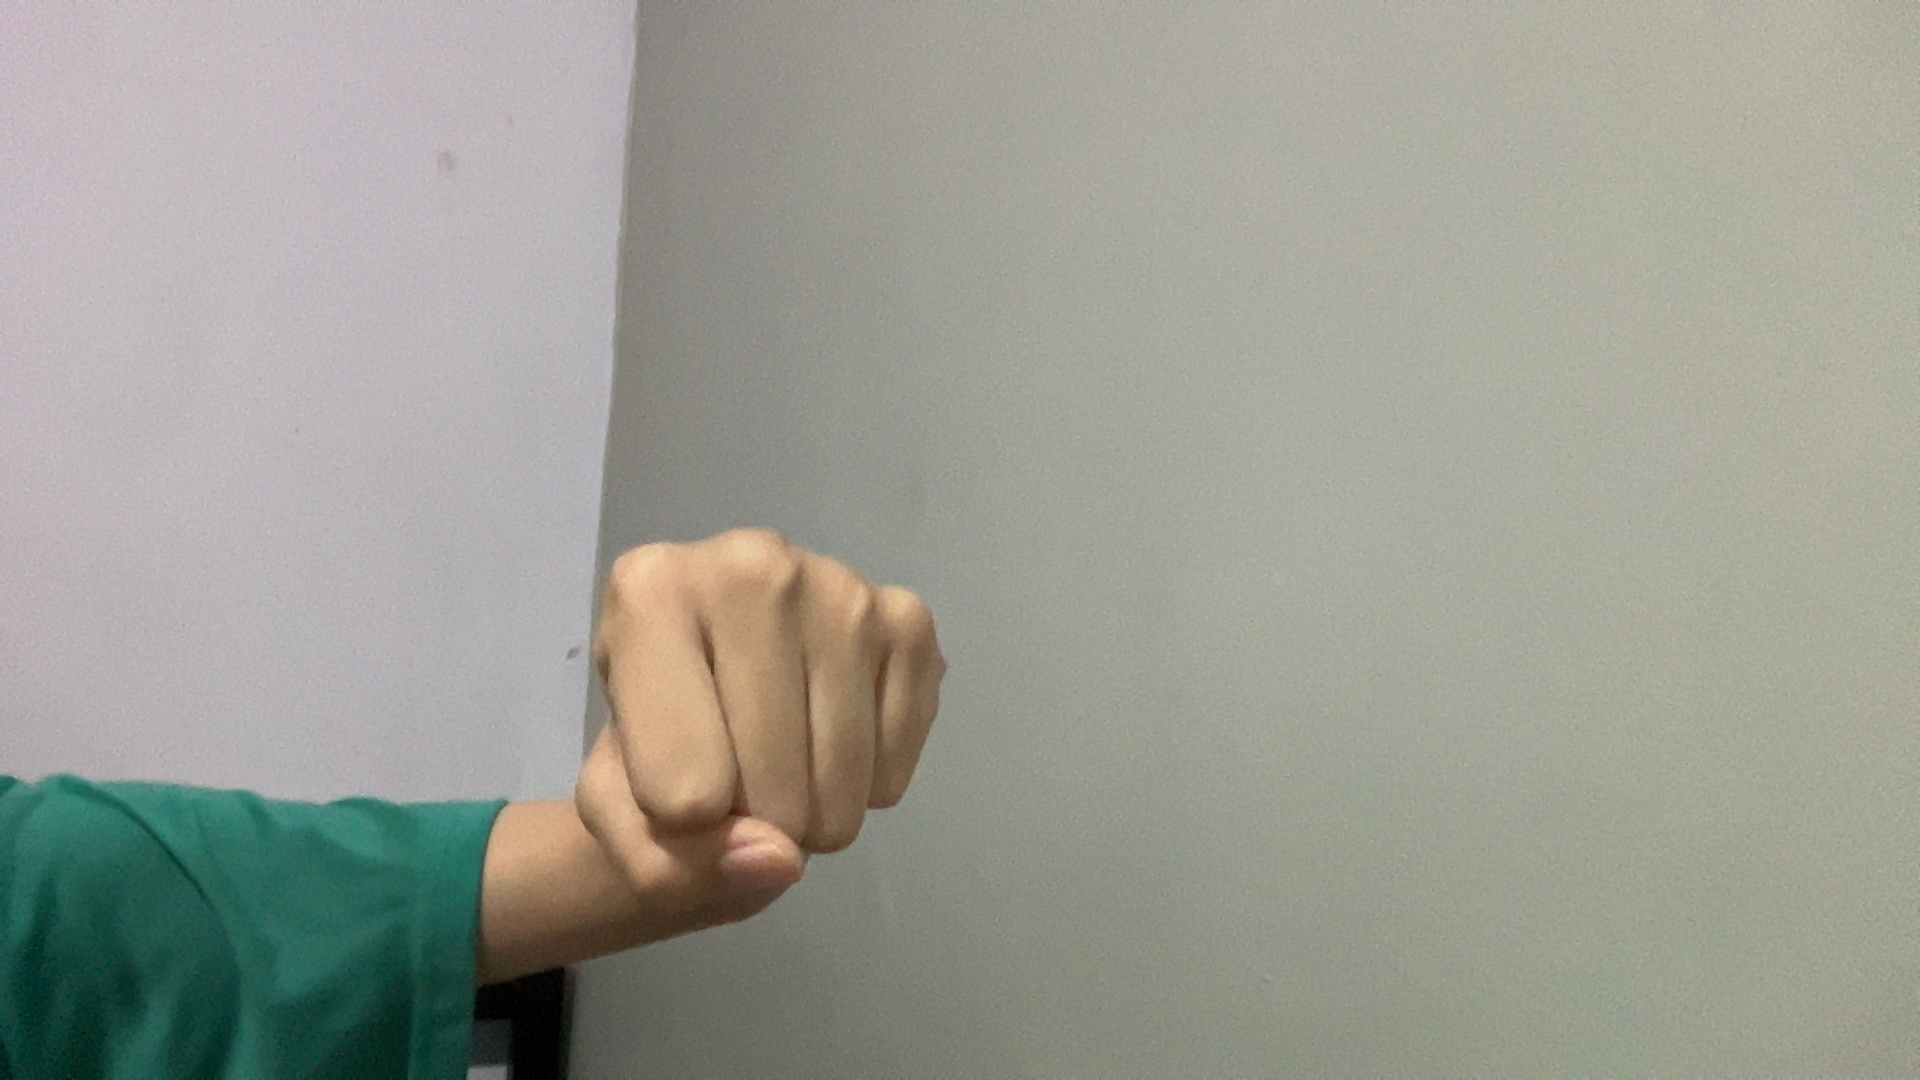Yes: (324, 390, 1139, 1005)
